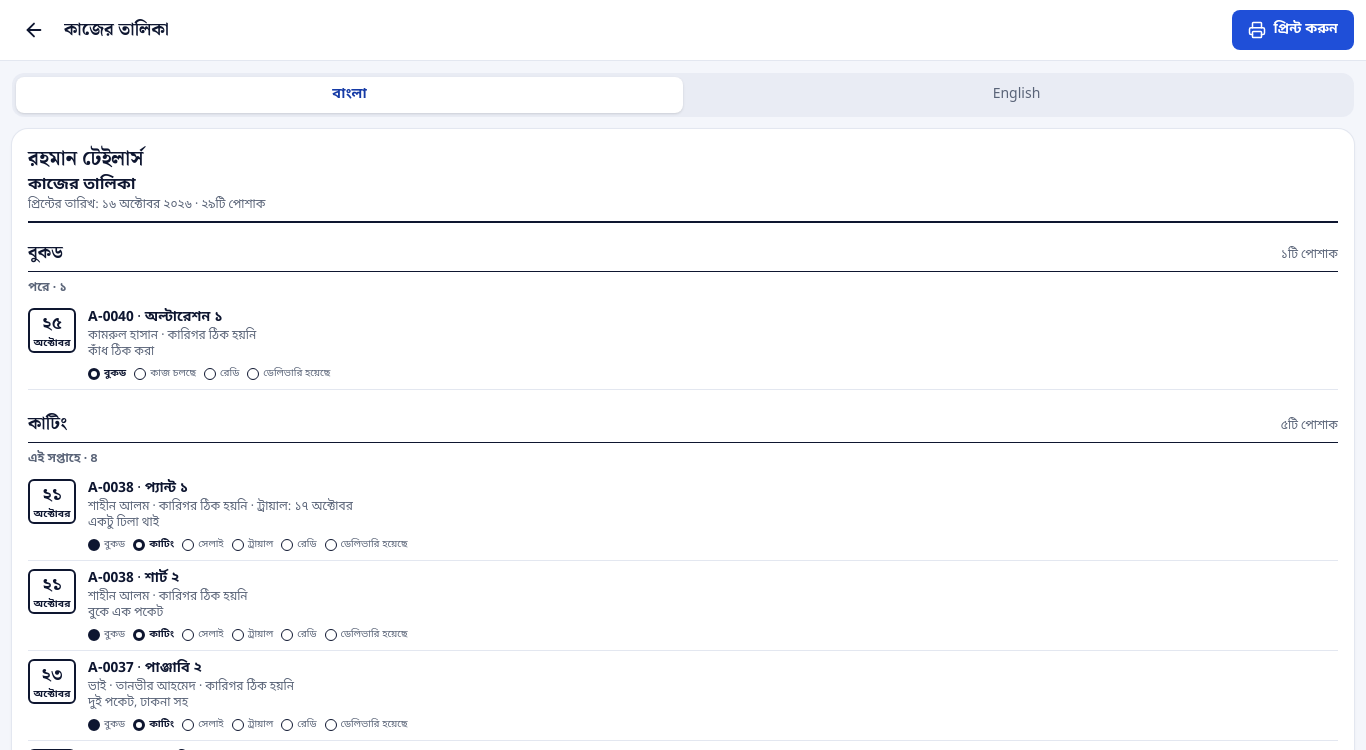
Test: Work-list print on a phone › prints outside the app, each group’s garments as cards in bands by delivery
The image size is (1366, 750).
Expected: the heading "কাজের তালিকা" is shown, [28,174,136,196]
Expected: the button "প্রিন্ট করুন" is shown, [1232,10,1354,50]
Click the button "English". click: (1016, 95)
box: [683,77,1350,113]
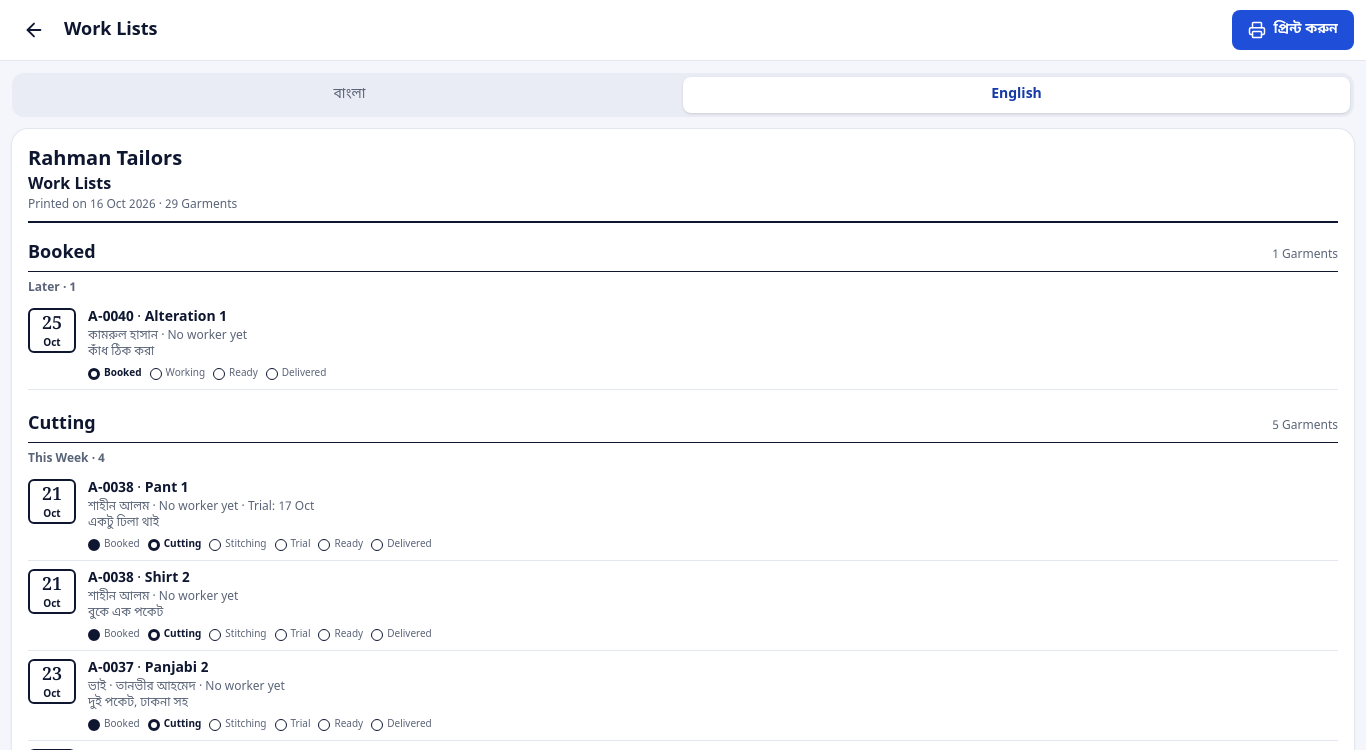
Expected: the heading "Work Lists" is shown, [28,174,111,196]
